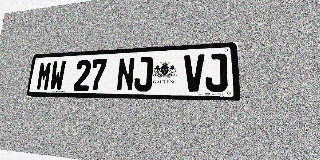2: (74, 59, 92, 91)
7: (89, 59, 107, 91)
J: (205, 53, 228, 92), (134, 57, 153, 91)
M: (36, 61, 53, 91)
N: (116, 57, 135, 91)
V: (184, 54, 204, 92)
W: (49, 61, 66, 91)
